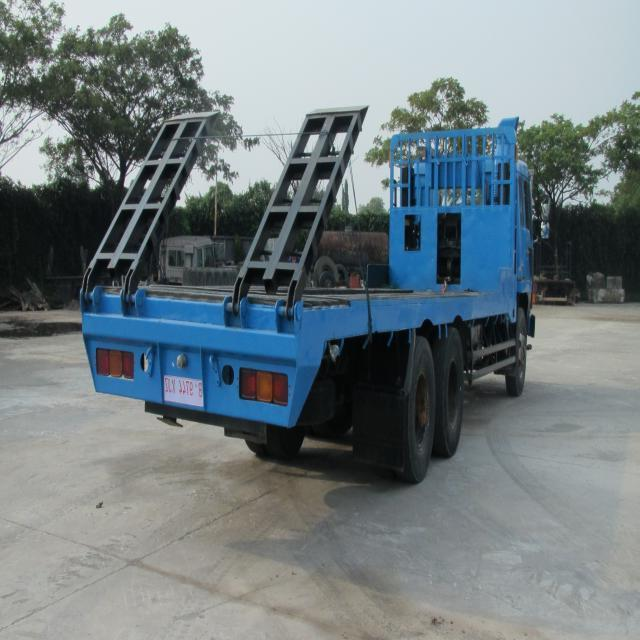Truck: (83, 100, 541, 480)
